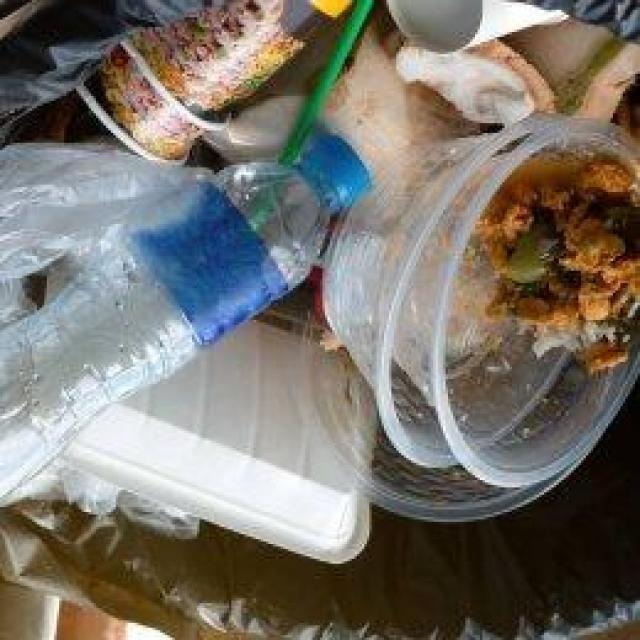Disposable: (325, 116, 640, 521), (64, 321, 374, 563)
Garbage: (0, 0, 640, 563)
Plastic_bottle: (0, 136, 370, 499)
contaminated_waste: (325, 62, 640, 488), (0, 136, 370, 497), (396, 46, 534, 125)
